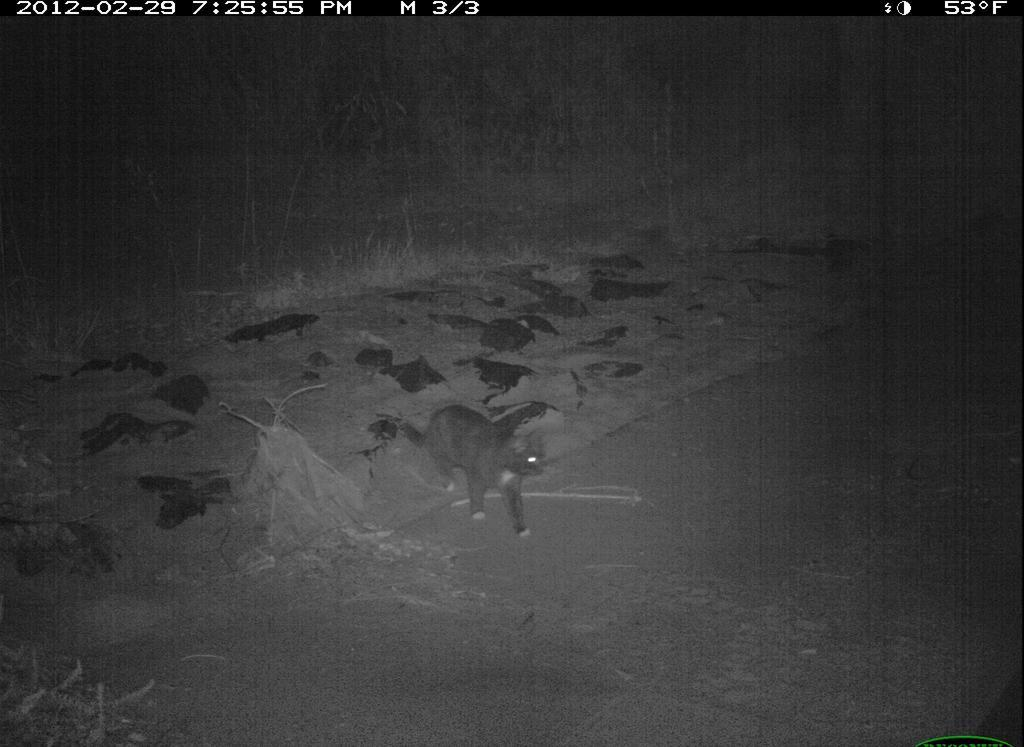cat: (397, 392, 564, 551)
